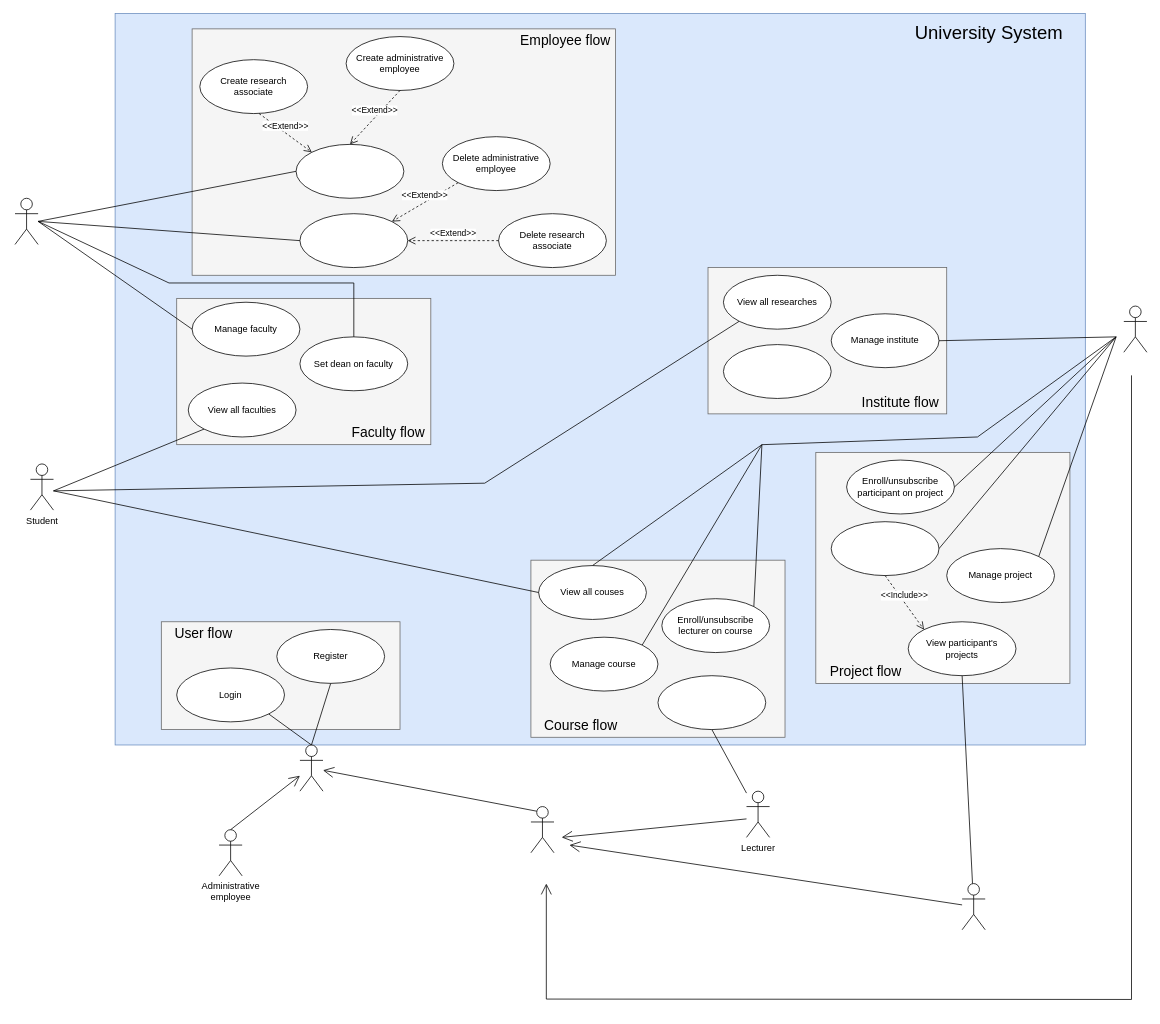
This 1160x1024 diagram has some shape labels left out. Here are the shapes that lost their labels. From the top down, the centre of each, then its label:
At (349,171): "Create employee".
At (26,221): "Admin".
At (353,240): "Delete employee".
At (1135,328): "Dean".
At (777,371): "View all institutes".
At (884,548): "View all projects".
At (711,702): "Update course".
At (311,767): "Employee".
At (542,829): "Research Associate".
At (973,906): "Participant in project".
